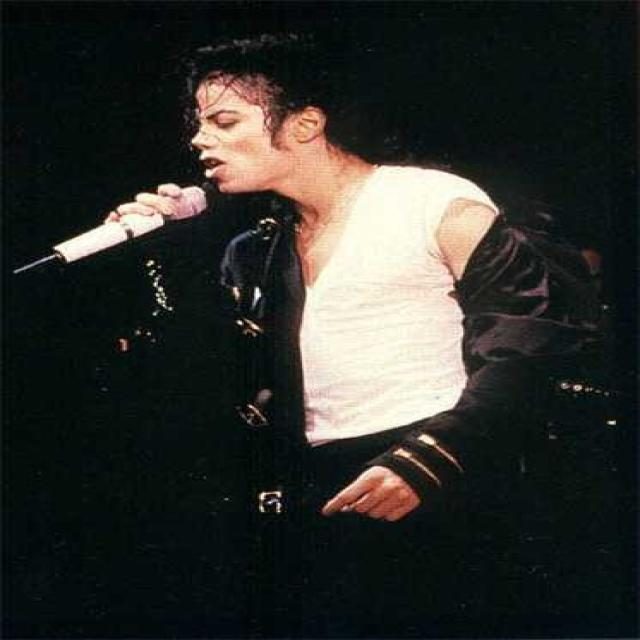microphone: (17, 185, 209, 278)
